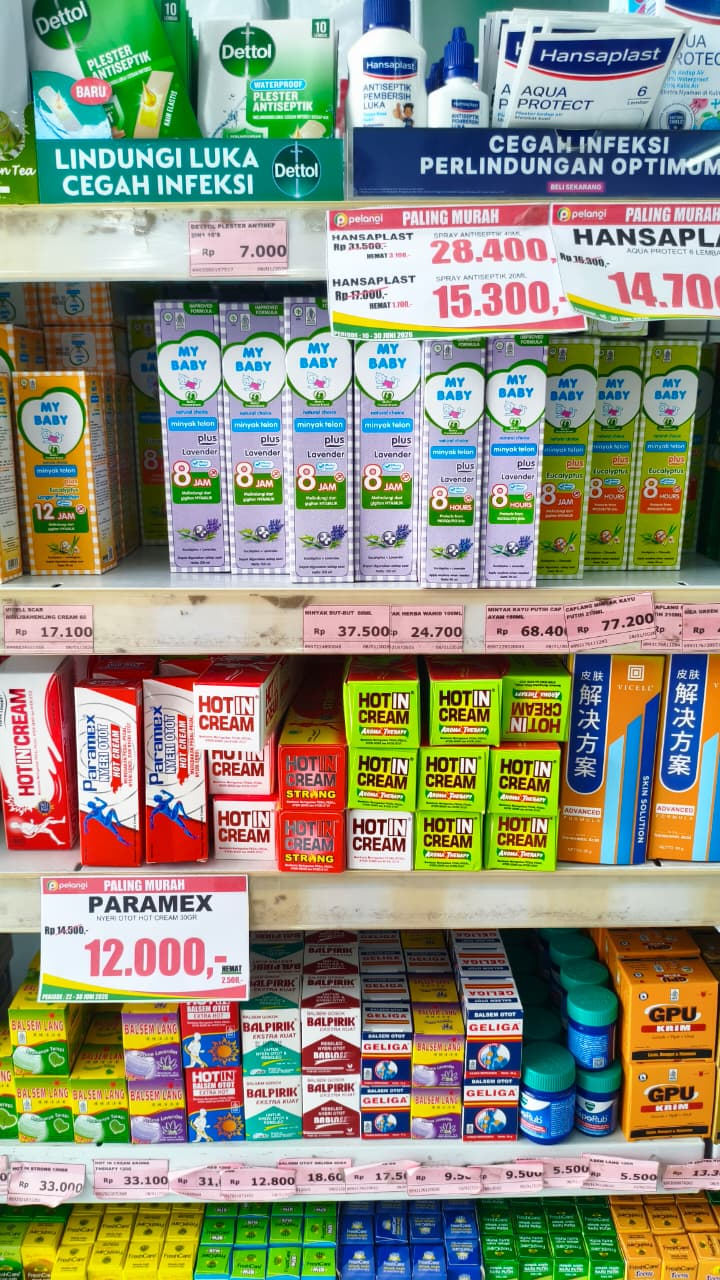GPU: (623, 972, 714, 1068)
HotInCream: (341, 672, 420, 758), (184, 677, 263, 763), (417, 735, 496, 821)
My Baby: (142, 282, 228, 490)
